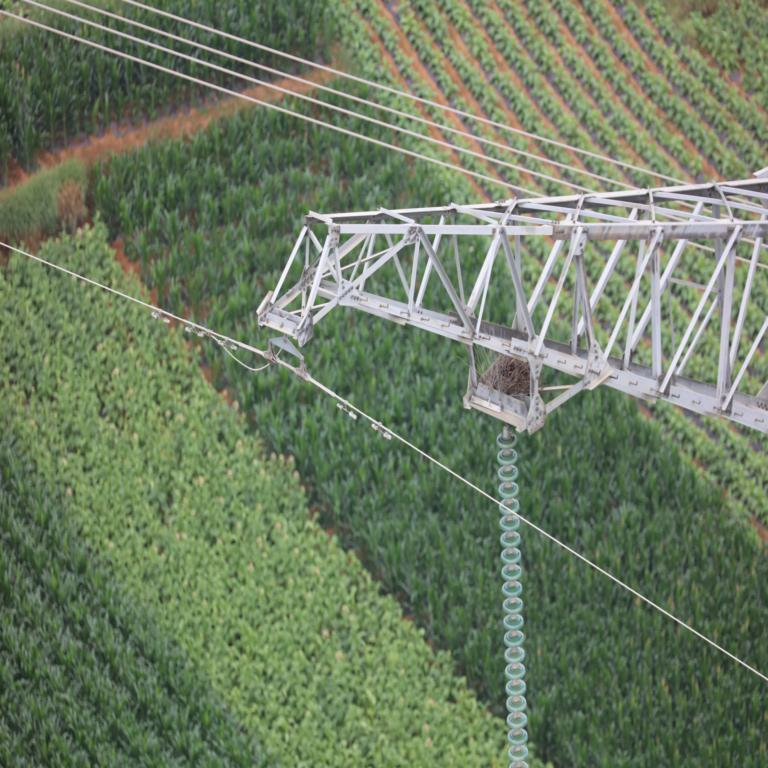nest: (485, 351, 533, 397)
